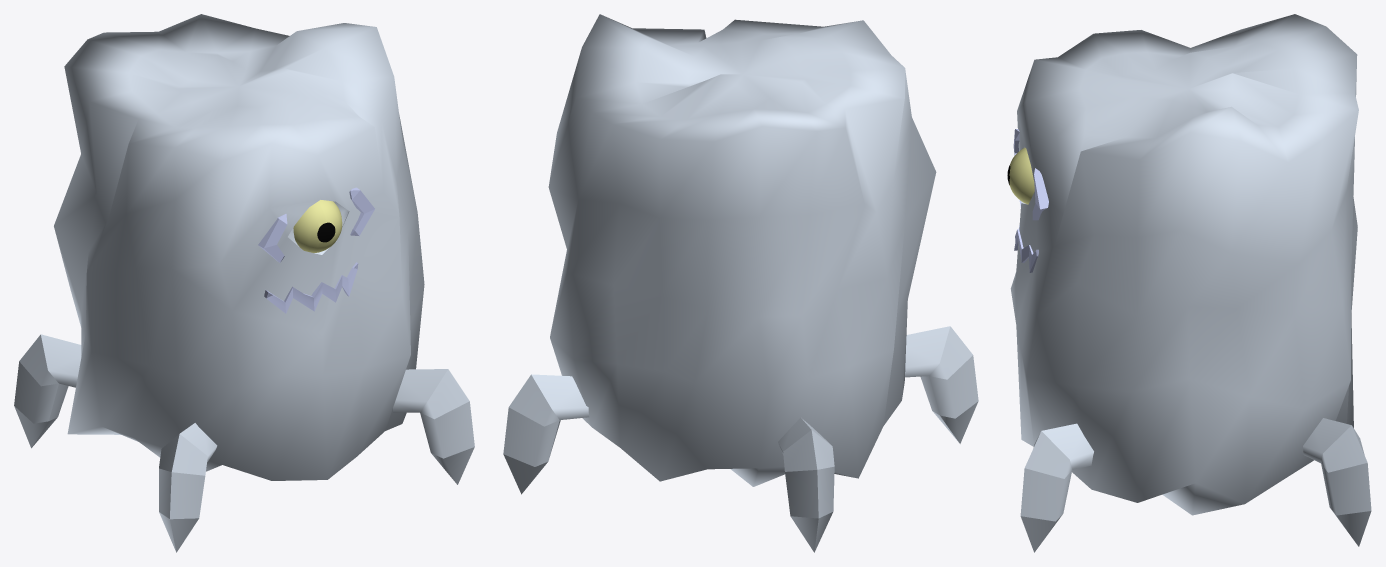
Rendered from アイスピラー.fbx.
The picture shows the model from 3 angles, left to right: view 1: azimuth 30°, elevation 25°; view 2: azimuth 150°, elevation 25°; view 3: azimuth 270°, elevation 25°; orthographic projection. The views are drawn at different scales.
Parts seen in each view (by area): view 1: pCylinder1, pCube3, pCube5, pCube4, pSphere1, pPlane1, pCube1, pCube2; view 2: pCylinder1, pCube6, pCube4, pCube5; view 3: pCylinder1, pCube3, pCube6, pSphere1, pCube2, pPlane1.
Part boxes in pixels (box(x1,y1,x2,y2)): pCylinder1: box(54, 14, 424, 480); pCube3: box(393, 369, 474, 484); pCube5: box(14, 334, 81, 448); pCube4: box(159, 423, 217, 552); pSphere1: box(293, 200, 342, 252); pPlane1: box(264, 262, 358, 313); pCube1: box(258, 214, 287, 262); pCube2: box(349, 187, 374, 235); pCylinder1: box(548, 14, 936, 486); pCube6: box(503, 374, 589, 494); pCube4: box(905, 326, 978, 443); pCube5: box(778, 417, 834, 552); pCylinder1: box(1010, 14, 1358, 515); pCube3: box(1020, 423, 1093, 552); pCube6: box(1303, 418, 1371, 546); pSphere1: box(1007, 147, 1034, 204); pCube2: box(1032, 168, 1048, 220); pPlane1: box(1014, 200, 1038, 272).
Bounding box in the file's own units: 3.37 × 4.22 × 3.33.
